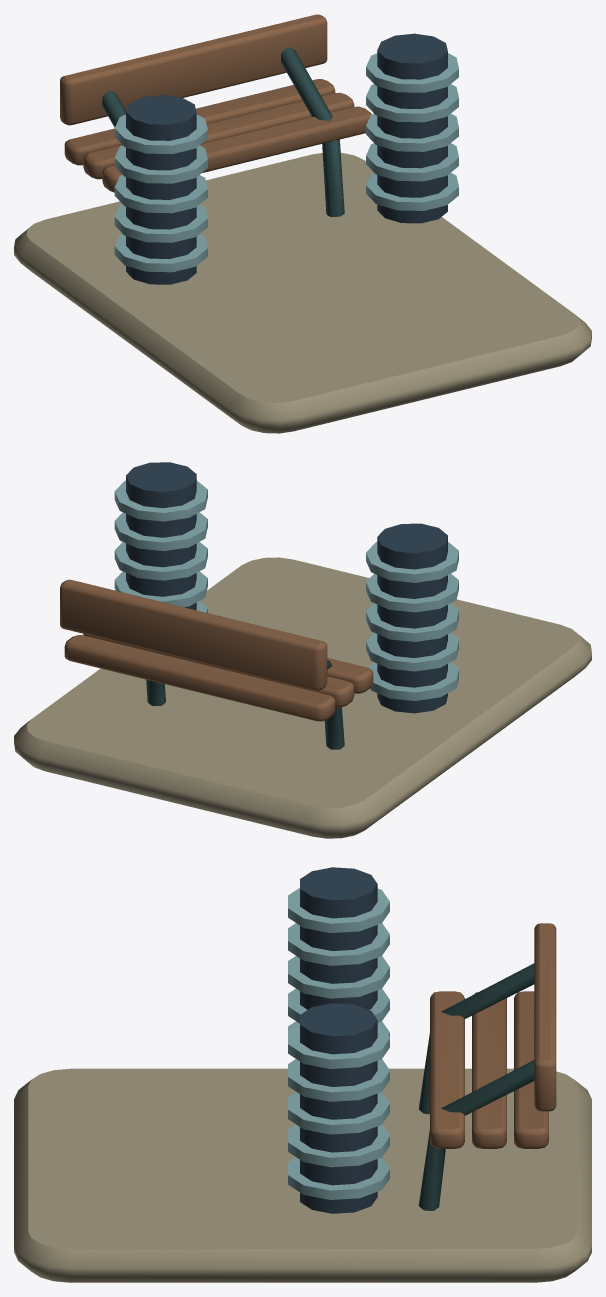
The model's file is luxury_detail_1.glb.
The picture shows the model from 3 angles, top to bottom: view 1: azimuth 30°, elevation 25°; view 2: azimuth 150°, elevation 25°; view 3: azimuth 270°, elevation 25°; orthographic projection. The views are drawn at different scales.
Visible parts, largest first — view 1: LuxuryDetail1; view 2: LuxuryDetail1; view 3: LuxuryDetail1.
Boxes of the visible parts, box(x1,y1,x2,y2) form: LuxuryDetail1: box(14, 14, 591, 433); LuxuryDetail1: box(14, 462, 591, 838); LuxuryDetail1: box(14, 867, 591, 1282).
Size of the model in its own units: 1.95 by 1.14 by 2.48.
